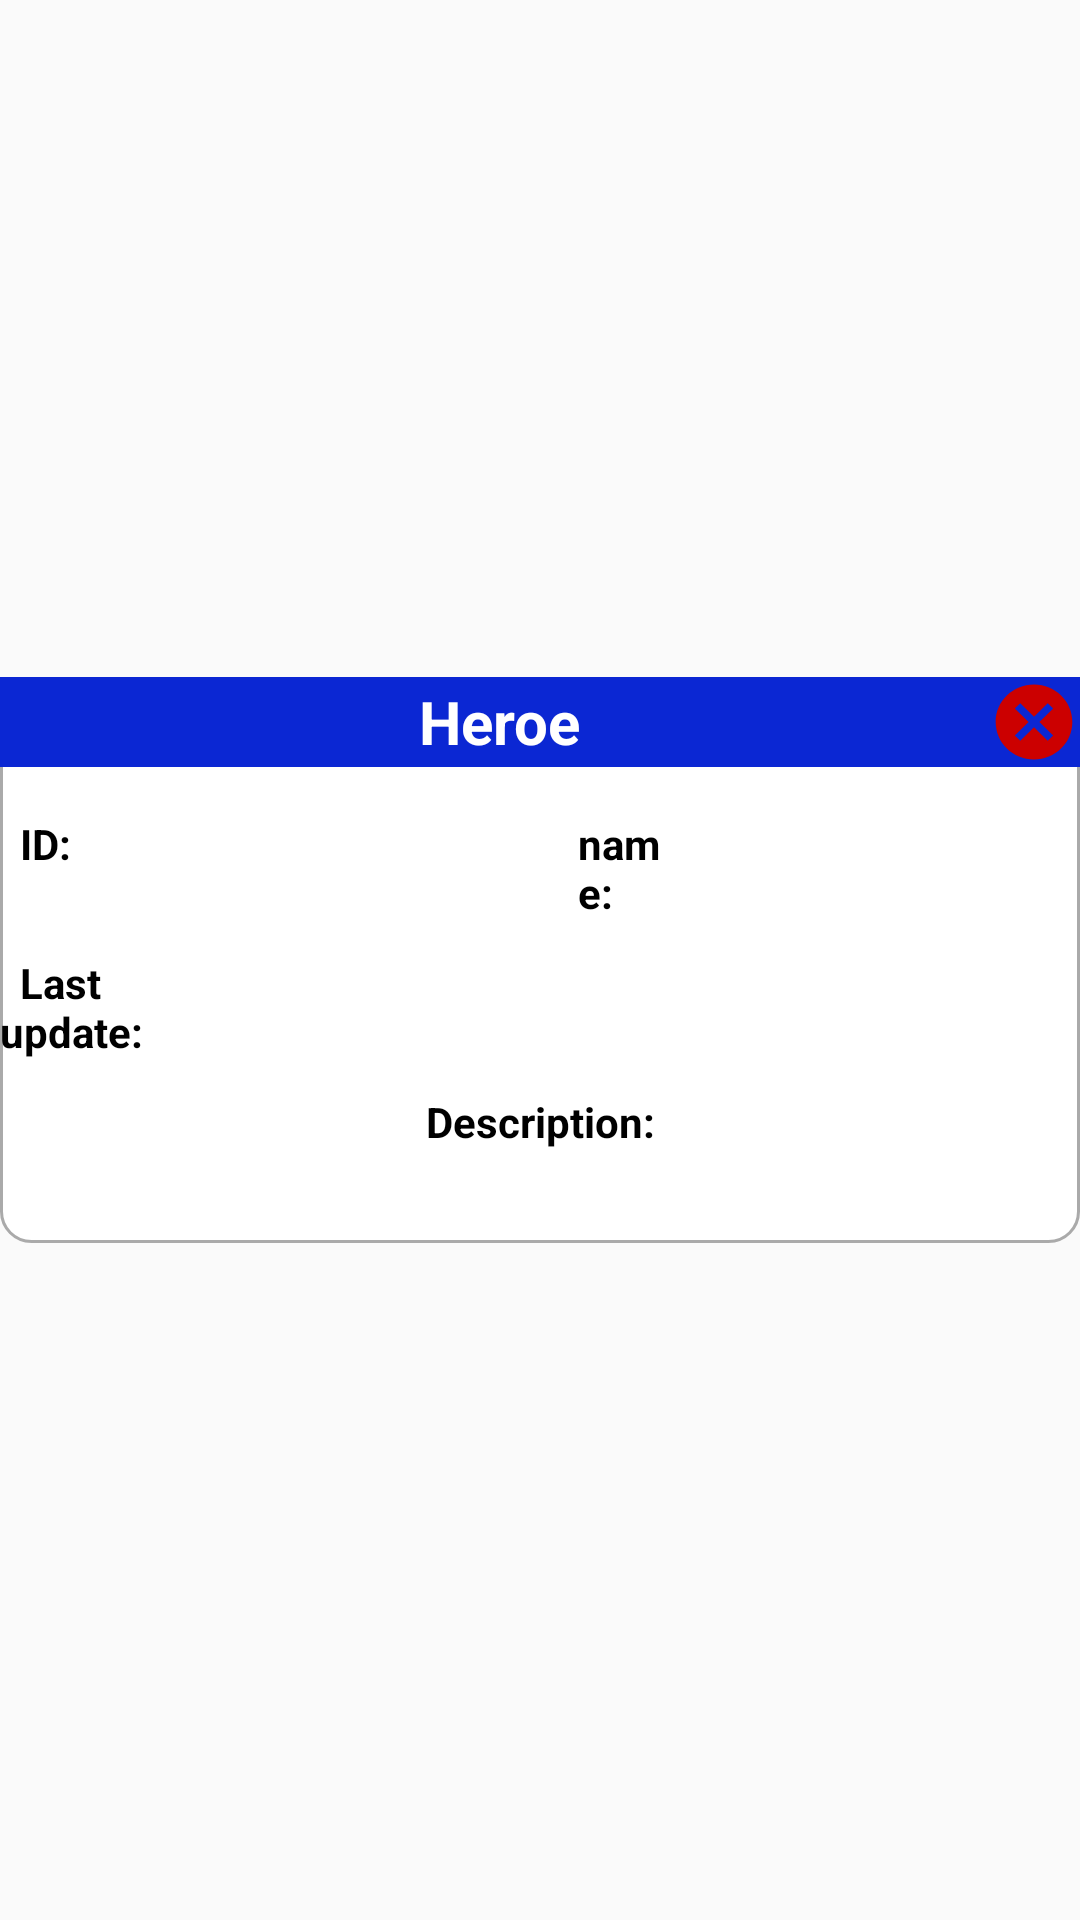

Where to tap for icons on this 1080 × 1920 app screen, as (x,y):
close: (1034,722)
